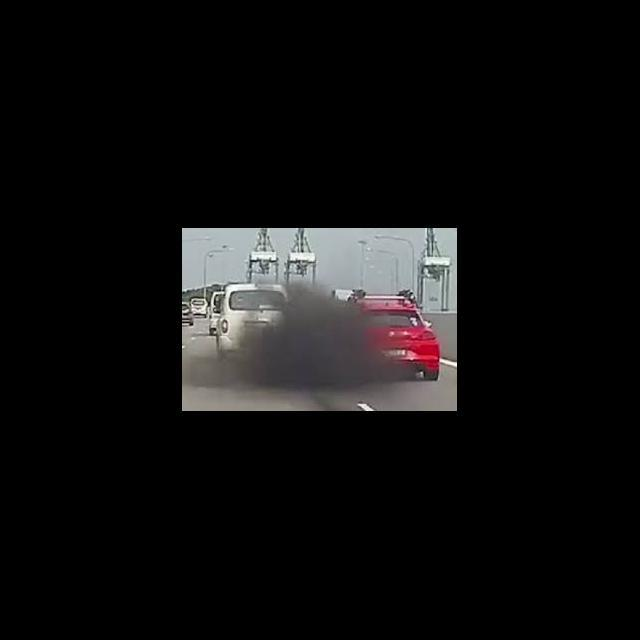Smoke: (290, 289, 367, 383), (192, 361, 290, 386), (242, 321, 292, 360)
